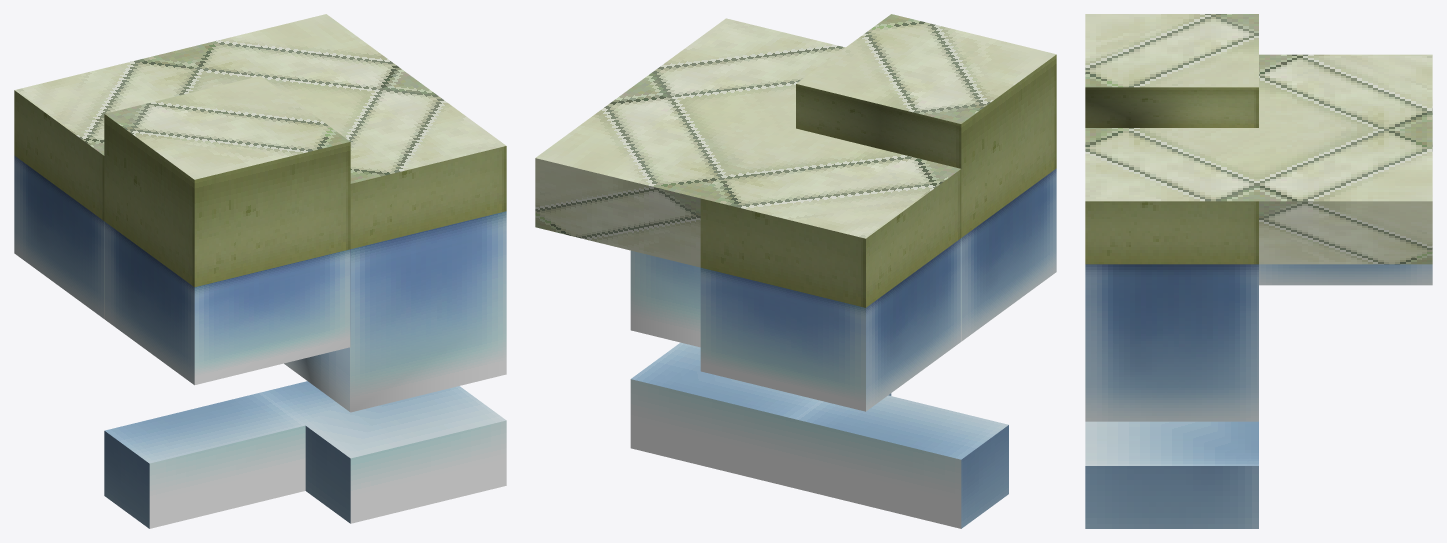
File: a_ESDtoilet01.glb
3 renders of one model, left to right at view 1: azimuth 30°, elevation 25°; view 2: azimuth 150°, elevation 25°; view 3: azimuth 270°, elevation 25°, orthographic. The views are drawn at different scales.
Visible parts, largest first — view 1: a_ESDtoilet01; view 2: a_ESDtoilet01; view 3: a_ESDtoilet01.
Part boxes in pixels (<box>): a_ESDtoilet01: <box>14,14,506,528</box>; a_ESDtoilet01: <box>535,14,1056,528</box>; a_ESDtoilet01: <box>1085,14,1432,528</box>.
Size of the model in its own units: 1 by 1.17 by 1.
3 materials, 3 textured.
